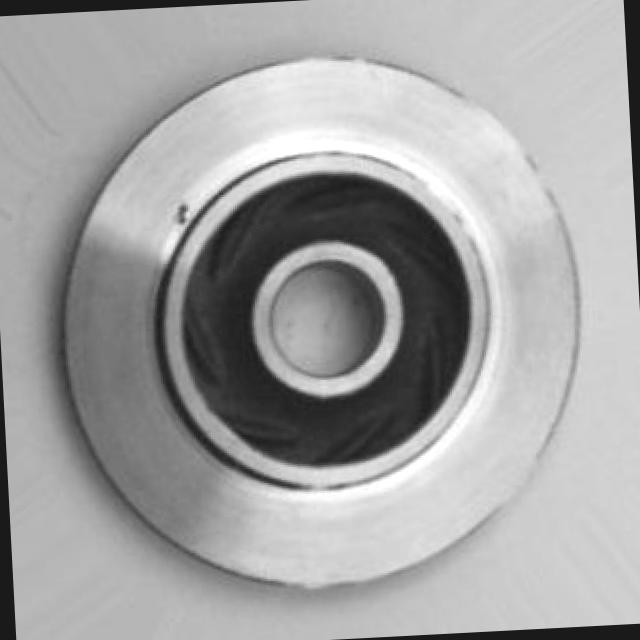Defect: (171, 198, 196, 225)
